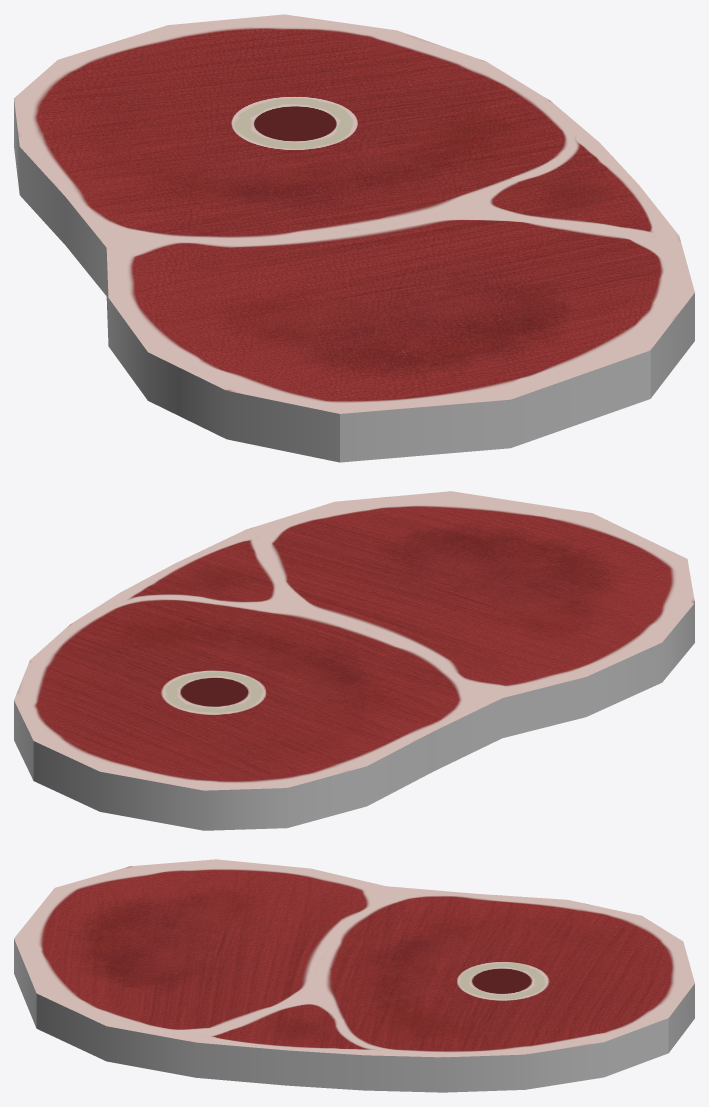
Rendered from cartoon_steak.fbx.
3 renders of one model, top to bottom at view 1: azimuth 30°, elevation 25°; view 2: azimuth 150°, elevation 25°; view 3: azimuth 270°, elevation 25°, orthographic. The views are drawn at different scales.
Visible parts, largest first — view 1: steak_low; view 2: steak_low; view 3: steak_low.
Boxes of the visible parts, <box> form: steak_low: <box>14,14,694,462</box>; steak_low: <box>14,491,694,830</box>; steak_low: <box>14,859,694,1092</box>.
Bounding box in the file's own units: 241 × 20 × 350.
